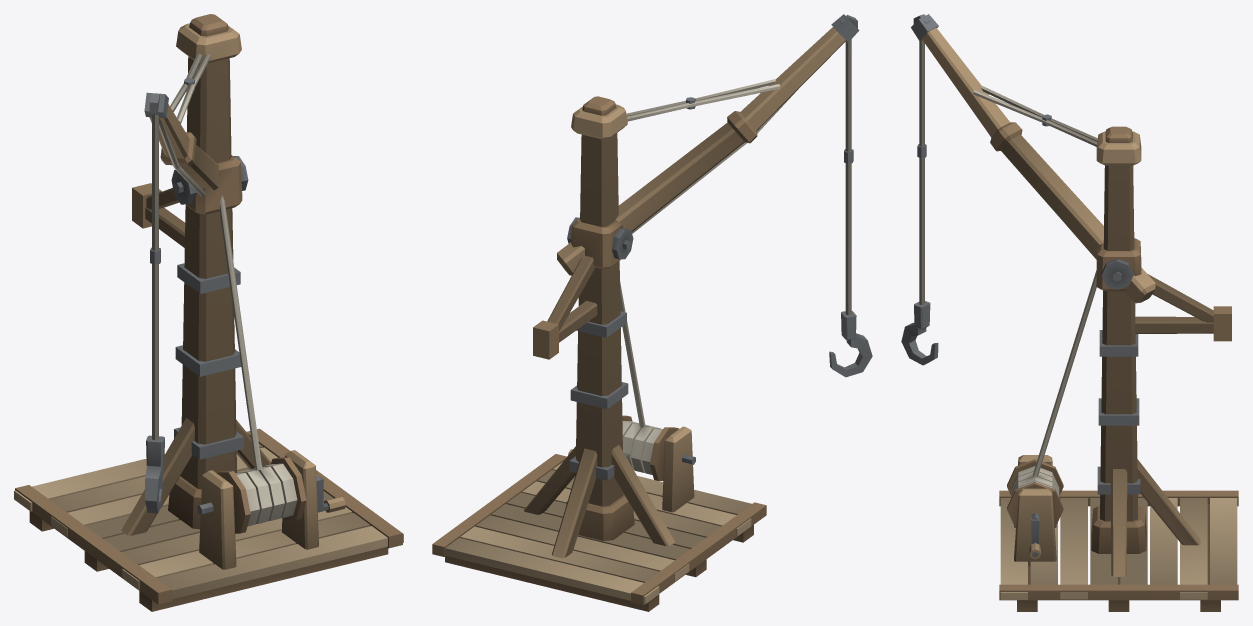
Rendered from crane.glb.
3 views of the same model, side by side, from view 1: azimuth 30°, elevation 25°; view 2: azimuth 150°, elevation 25°; view 3: azimuth 270°, elevation 25° (orthographic). The views are drawn at different scales.
Parts seen in each view (by area): view 1: crane; view 2: crane; view 3: crane.
Boxes of the visible parts, left/top/right/bottom form: crane: left=14, top=14, right=403, bottom=611; crane: left=432, top=14, right=872, bottom=611; crane: left=901, top=14, right=1238, bottom=611.
Bounding box in the file's own units: 3.81 × 6.62 × 4.23.
